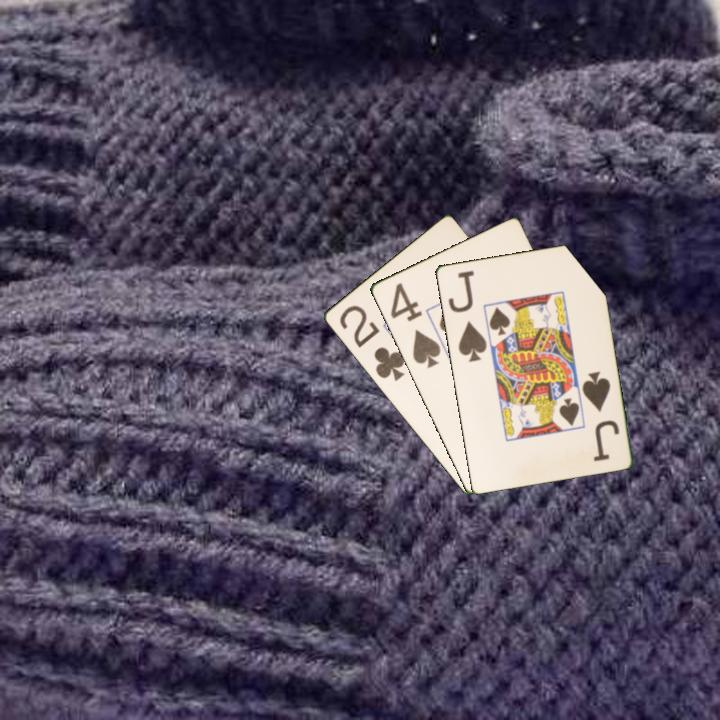2c: (335, 301, 407, 384)
4s: (386, 279, 443, 371)
Js: (444, 267, 490, 364), (578, 368, 622, 464)
